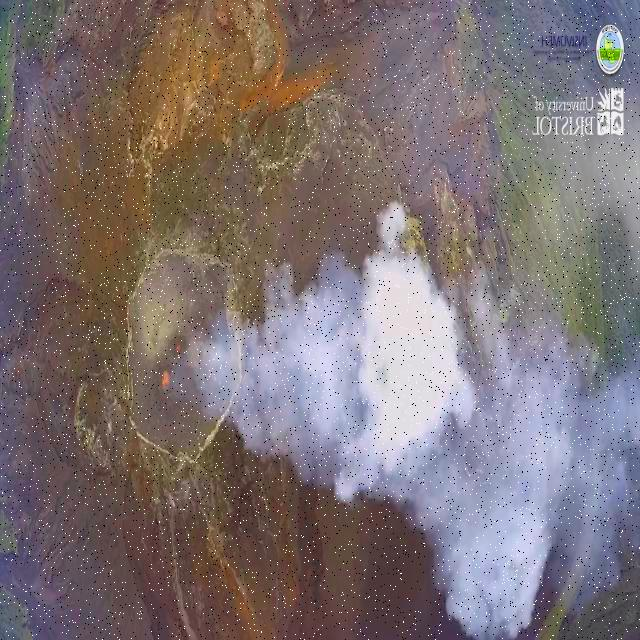Plume: (244, 223, 638, 640)
Summit: (110, 224, 242, 482)
